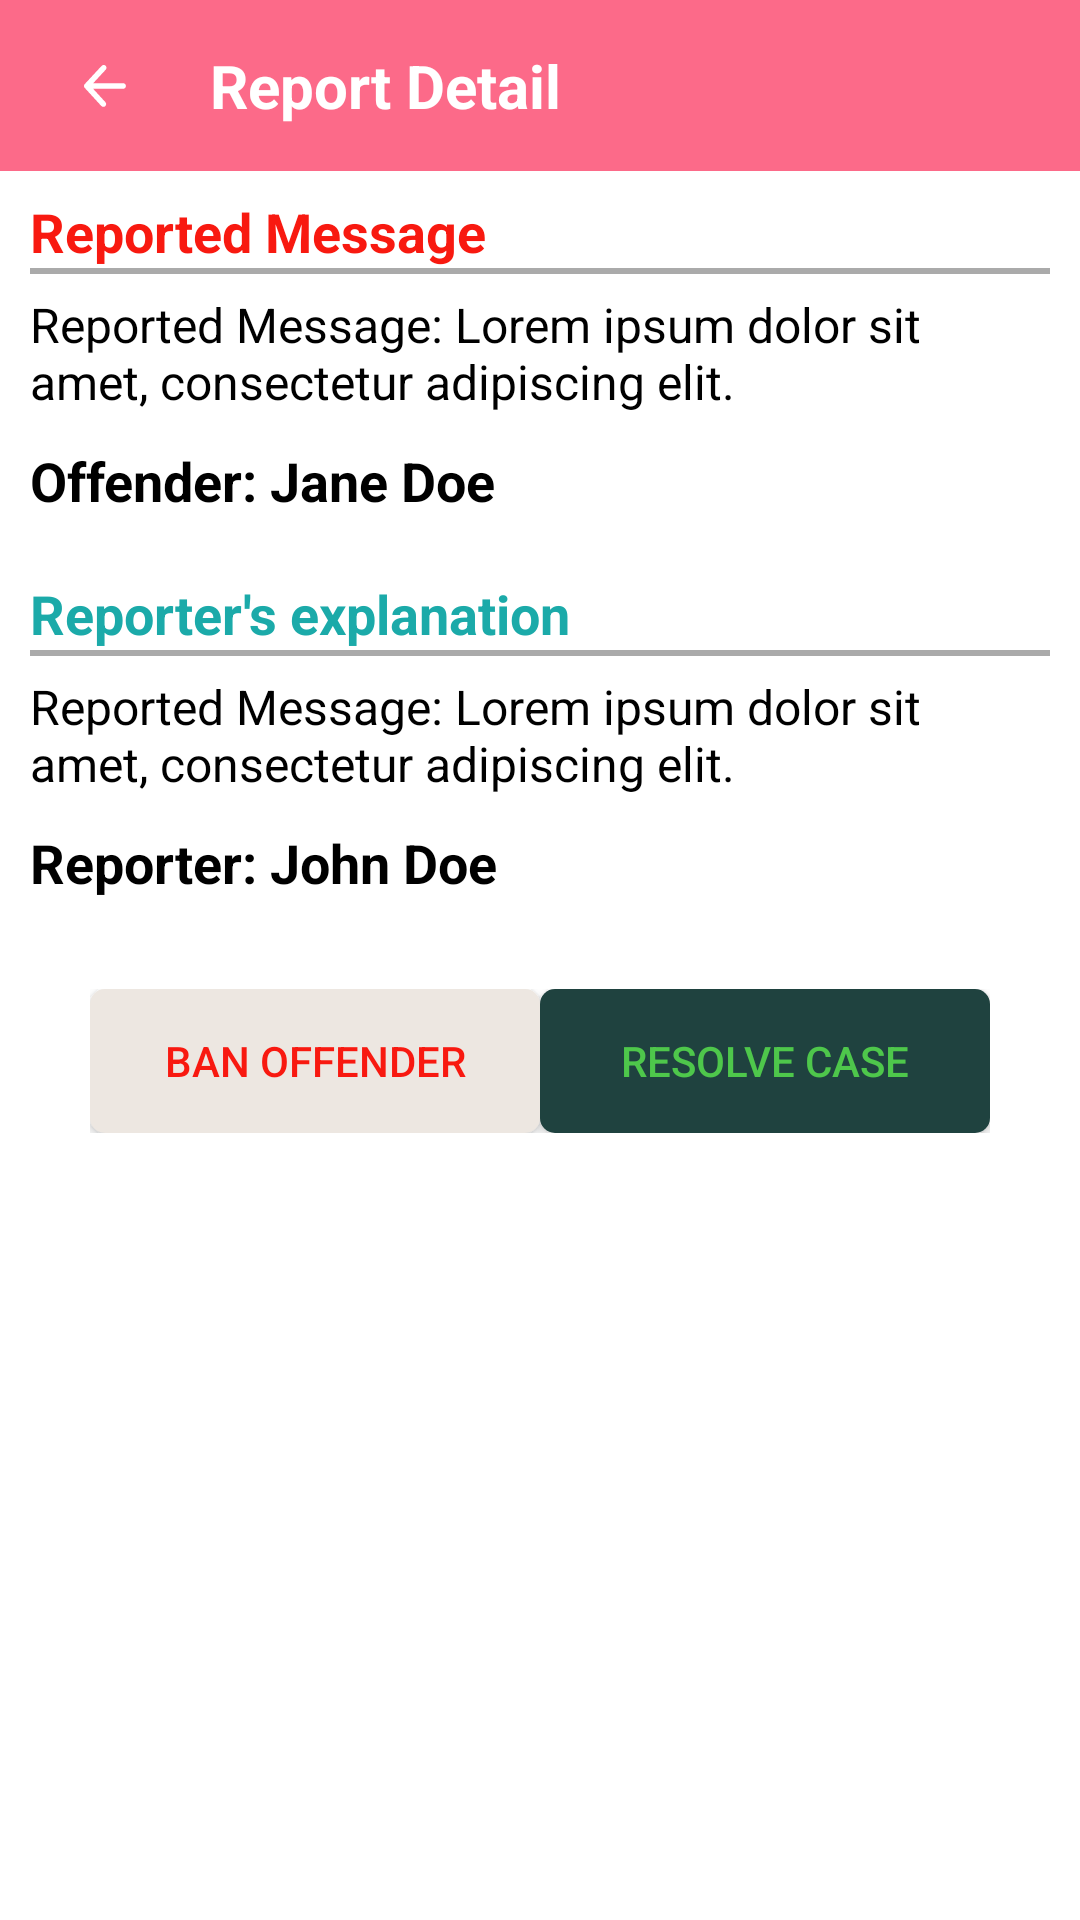

Icon click points for this 1080px x 1920px phone screenshot, format [x,y]:
back: [105,86]
